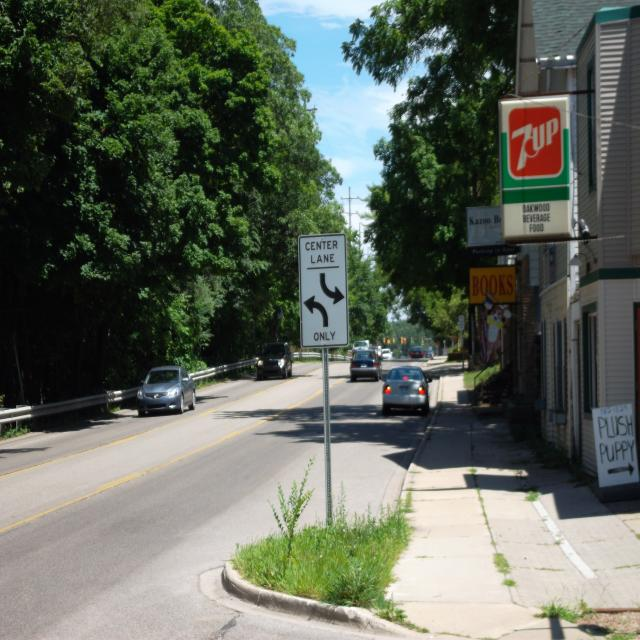regulatory: (296, 232, 354, 355)
